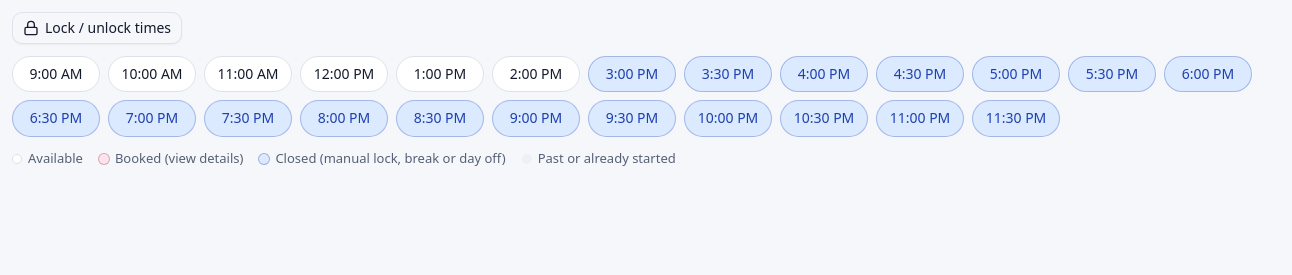
it: booking time lock controls › offers only whole-hour starts and ends for a visit, and half hours for a lock
Click the radio button labelled "1:00 PM" at (440, 74), box top-left (396, 56), bottom-right (484, 92)
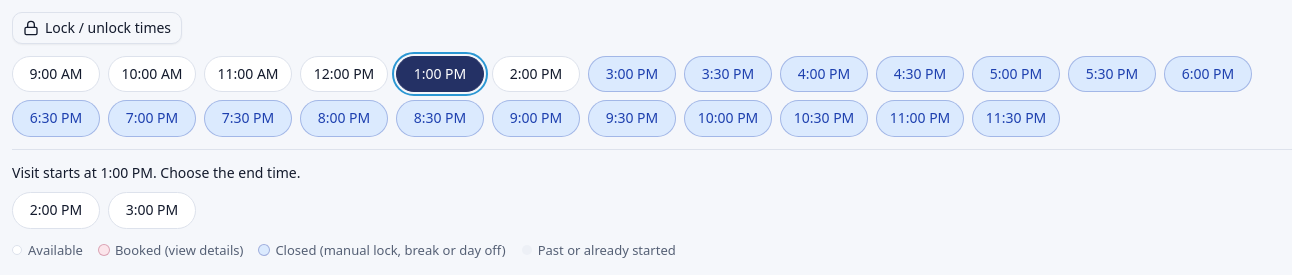
Click the button "Lock / unlock times" at (97, 28), box top-left (12, 12), bottom-right (182, 44)
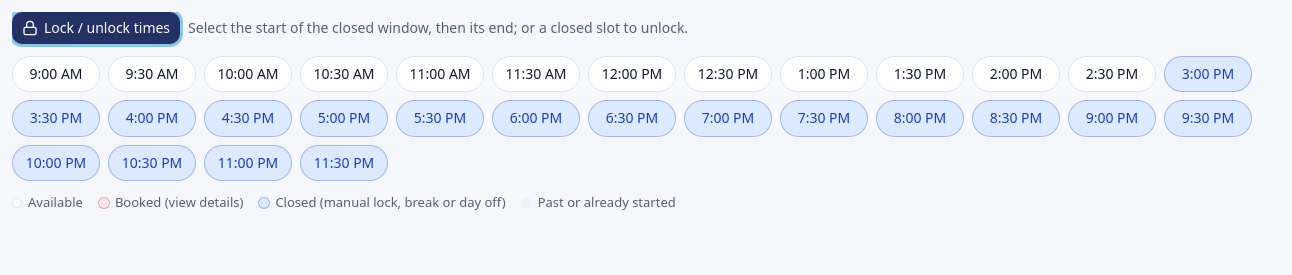
Check: the radio button labelled "1:30 PM" is shown, box top-left (876, 56), bottom-right (964, 92)
